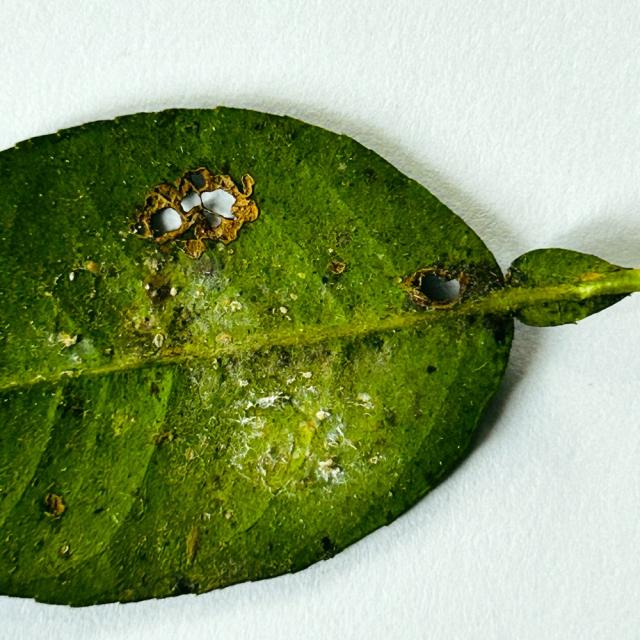Bacterial_Blight: (403, 265, 472, 308), (38, 490, 69, 524), (185, 522, 202, 564), (145, 271, 171, 292), (181, 241, 204, 260), (206, 496, 226, 516), (319, 458, 340, 474), (577, 271, 605, 282), (327, 259, 346, 275), (153, 430, 172, 446), (56, 332, 74, 347), (215, 332, 232, 345), (85, 261, 100, 274), (152, 333, 165, 346), (59, 544, 71, 557), (315, 410, 329, 421), (369, 455, 379, 464), (396, 276, 403, 284)
Lemon: (0, 108, 639, 611)
